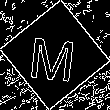M_N: (30, 28, 80, 82)
